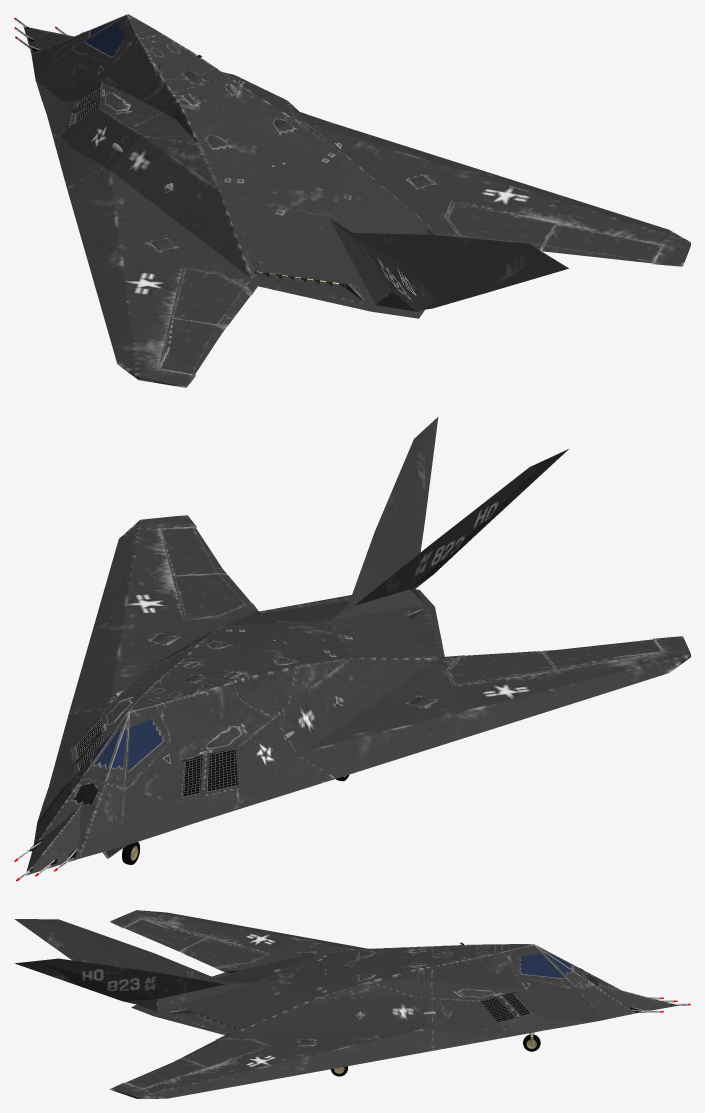
3 views of the same model, one above another, from view 1: azimuth 30°, elevation 25°; view 2: azimuth 150°, elevation 25°; view 3: azimuth 270°, elevation 25° (orthographic). The views are drawn at different scales.
Visible parts, largest first — view 1: Object_15, Object_25, Object_4, Object_2, Object_26, Object_21, Object_5, Object_13, Object_14; view 2: Object_15, Object_25, Object_4, Object_30, Object_21, Object_14, Object_10, Object_2, Object_13, Object_26, Object_5; view 3: Object_15, Object_25, Object_4, Object_21, Object_30, Object_2, Object_14, Object_26, Object_5, Object_13, Object_10.
Part boxes in pixels (bbox=[...]): Object_15: bbox=[67, 78, 690, 387]; Object_25: bbox=[23, 26, 333, 189]; Object_4: bbox=[160, 203, 661, 374]; Object_2: bbox=[74, 29, 663, 376]; Object_26: bbox=[144, 38, 213, 79]; Object_21: bbox=[74, 14, 154, 61]; Object_5: bbox=[151, 44, 351, 216]; Object_13: bbox=[102, 73, 434, 250]; Object_14: bbox=[86, 20, 124, 57]; Object_15: bbox=[69, 417, 690, 778]; Object_25: bbox=[25, 667, 336, 875]; Object_4: bbox=[161, 527, 661, 684]; Object_30: bbox=[74, 720, 349, 864]; Object_21: bbox=[81, 700, 169, 786]; Object_14: bbox=[91, 719, 162, 770]; Object_10: bbox=[75, 718, 237, 797]; Object_2: bbox=[124, 526, 663, 787]; Object_13: bbox=[103, 633, 434, 754]; Object_26: bbox=[145, 675, 214, 700]; Object_5: bbox=[152, 621, 352, 697]; Object_15: bbox=[14, 910, 432, 1098]; Object_25: bbox=[432, 944, 677, 1050]; Object_4: bbox=[125, 919, 267, 1088]; Object_21: bbox=[509, 944, 579, 987]; Object_30: bbox=[330, 975, 598, 1076]; Object_2: bbox=[123, 918, 574, 1089]; Object_14: bbox=[520, 953, 572, 978]; Object_26: bbox=[444, 945, 495, 962]; Object_5: bbox=[273, 942, 488, 995]; Object_13: bbox=[300, 952, 502, 1045]; Object_10: bbox=[481, 993, 532, 1022].
Size of the model in its own units: 10.43 by 2.92 by 16.
Materials: 33 (26 with a texture image).
